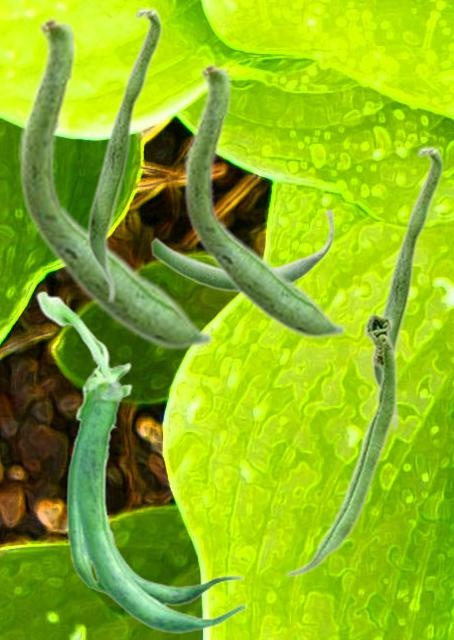french_bean: (35, 290, 246, 633), (18, 13, 214, 350), (183, 60, 346, 339), (284, 311, 397, 577), (86, 6, 162, 304), (371, 145, 443, 431), (150, 210, 334, 292)
